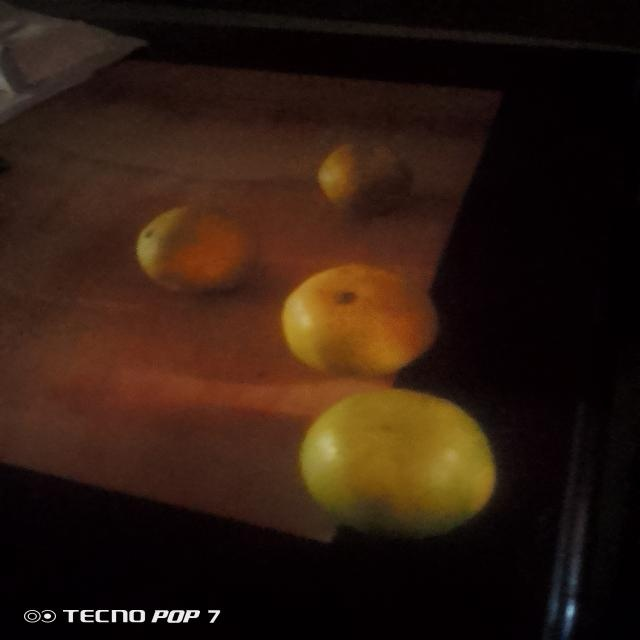agrume: (282, 390, 502, 549), (269, 249, 473, 375), (128, 198, 259, 304), (308, 141, 421, 222)
